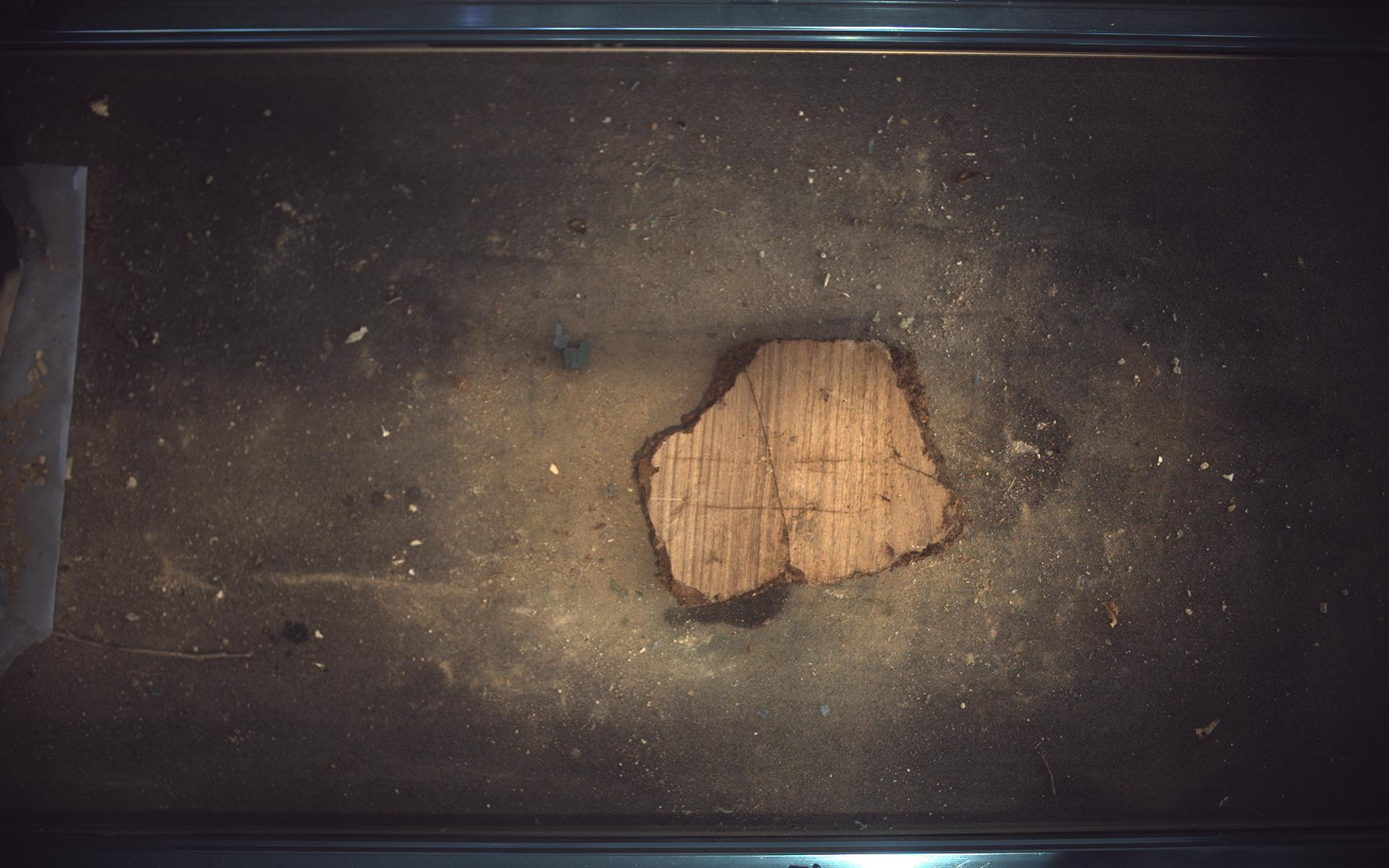wood: (636, 339, 966, 627)
